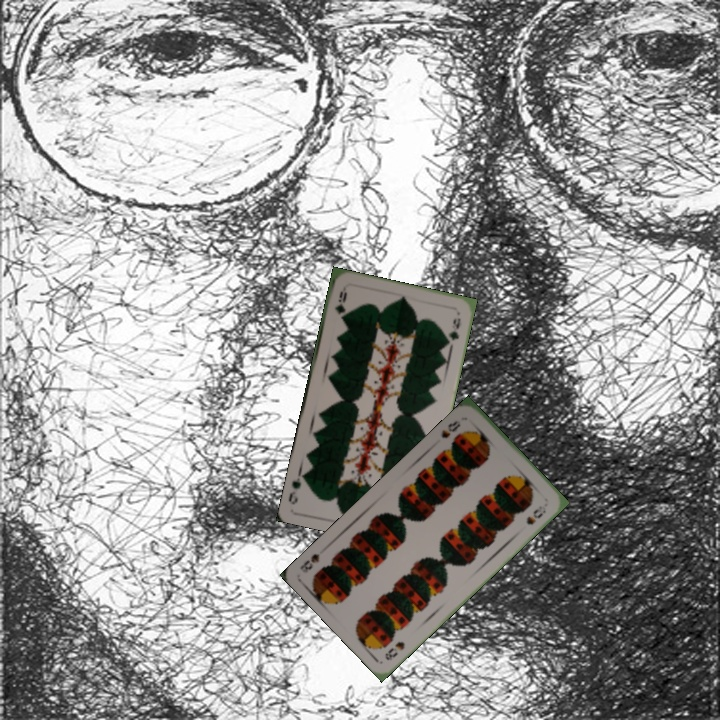G9: (331, 287, 349, 317)
S8: (381, 637, 407, 663), (437, 416, 463, 441)
